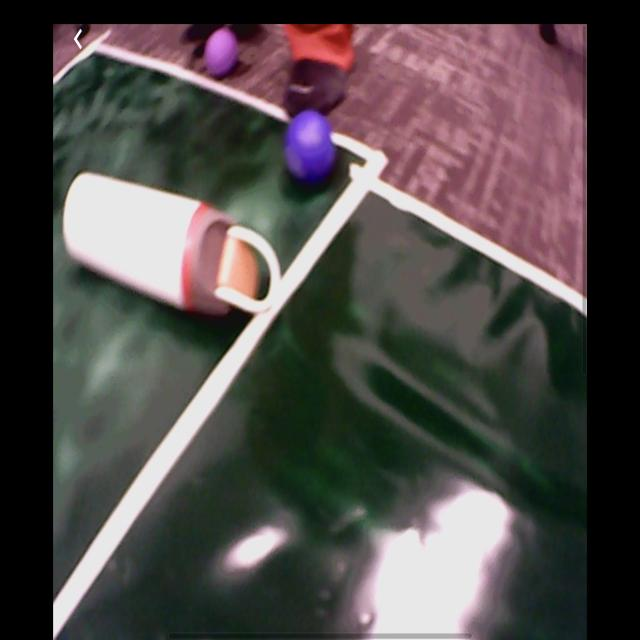ball: (286, 114, 337, 189), (206, 30, 239, 78)
